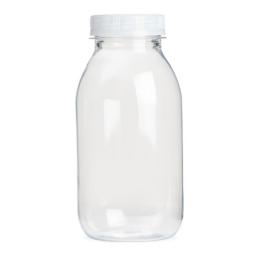Plastic: (77, 15, 184, 242)
